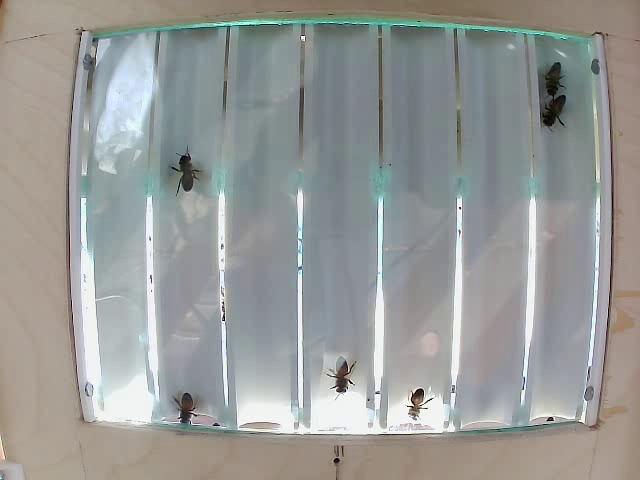bee: (403, 381, 430, 427), (539, 66, 569, 106), (183, 158, 208, 195), (548, 100, 570, 141), (170, 393, 198, 425), (326, 363, 344, 394)
